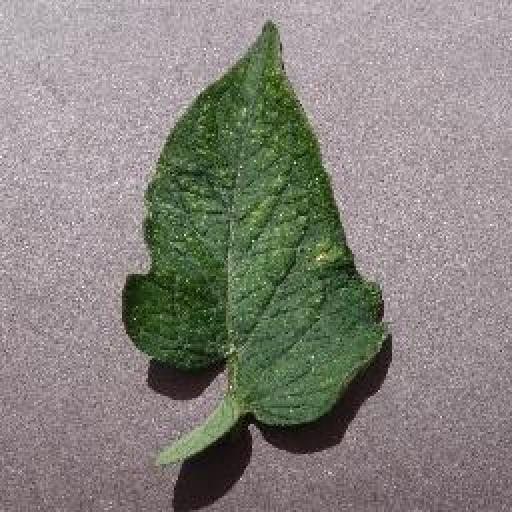Spider Mites: (120, 21, 388, 428)
